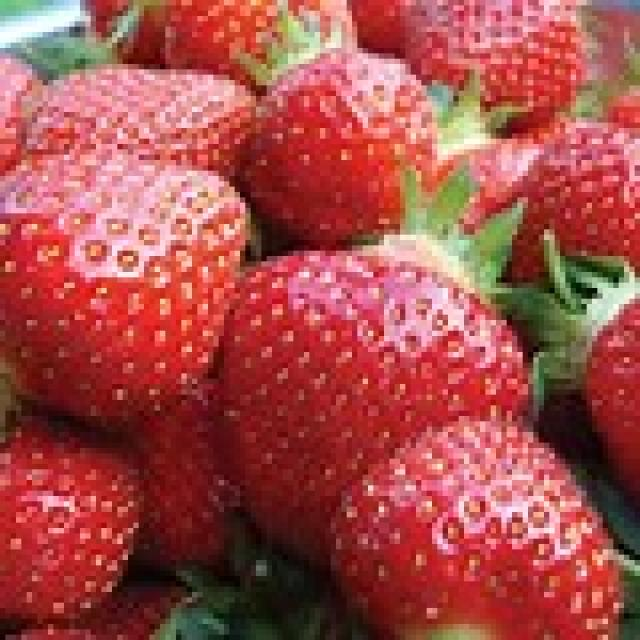Berries strawberries/blueberries: (0, 155, 191, 417), (359, 458, 604, 640), (245, 247, 453, 423), (260, 54, 422, 228), (0, 426, 112, 618), (26, 62, 246, 154)
